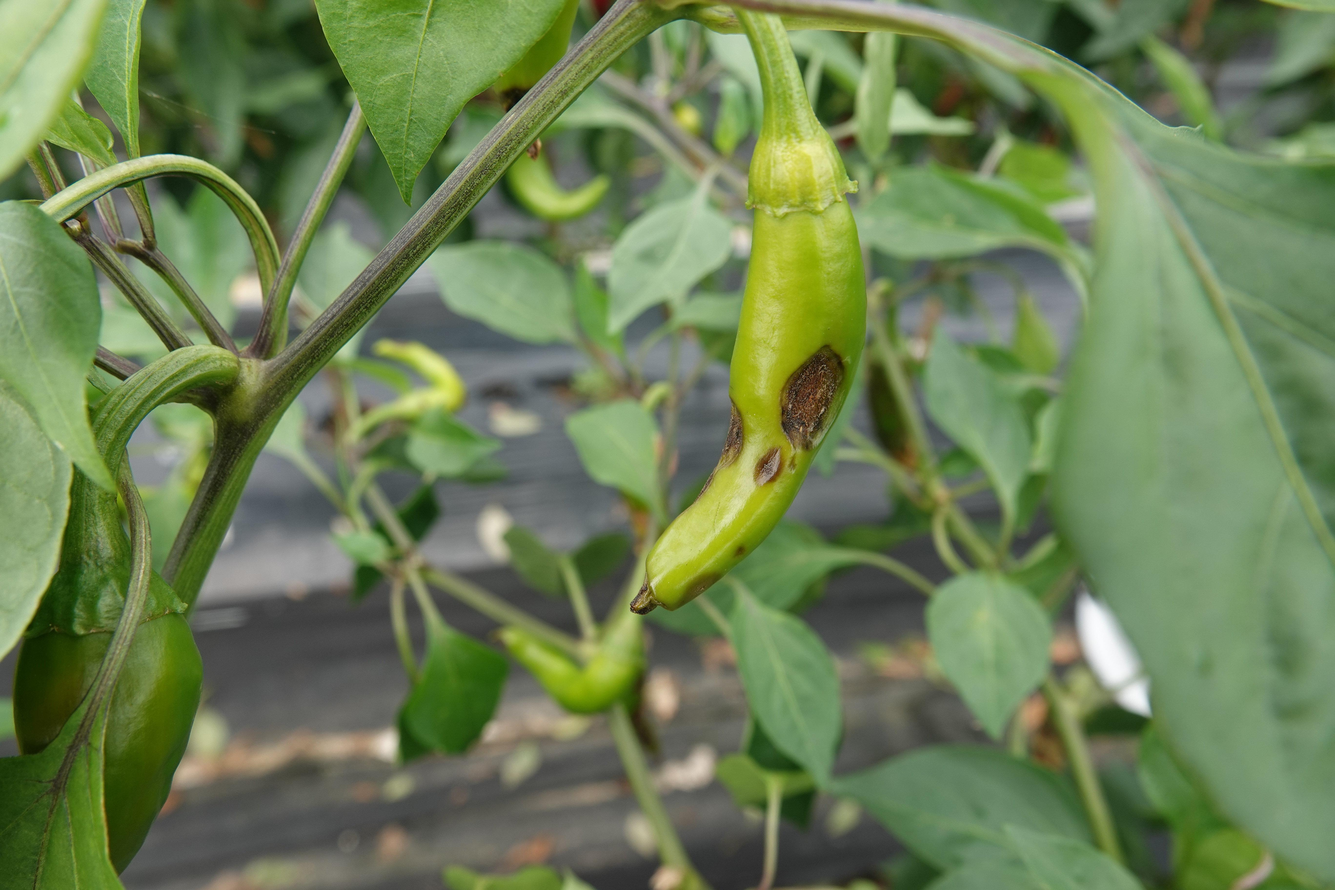Busuk Buah Antraknosa: (626, 123, 870, 617)
